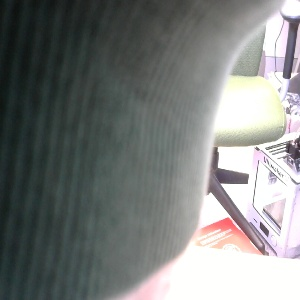Drone: (206, 5, 299, 258)
